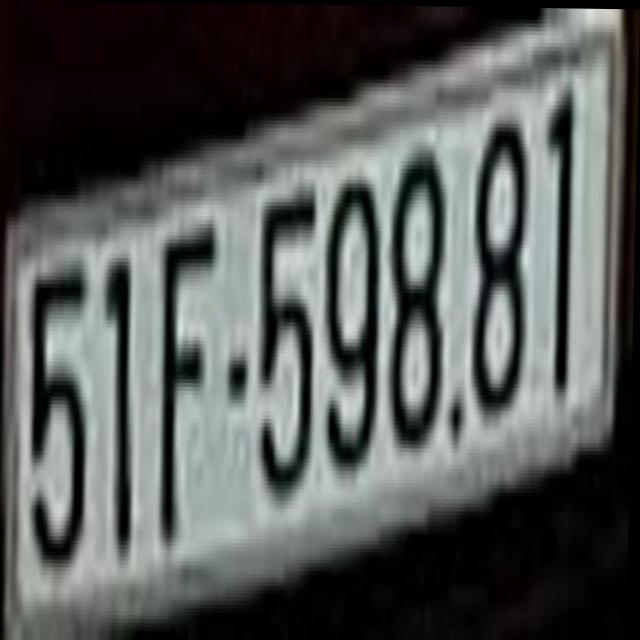1: (541, 72, 582, 422), (101, 238, 142, 580)
5: (27, 244, 94, 587), (256, 189, 322, 520)
8: (469, 114, 531, 433), (386, 144, 447, 452)
9: (323, 170, 383, 474)
F: (157, 211, 221, 546)
